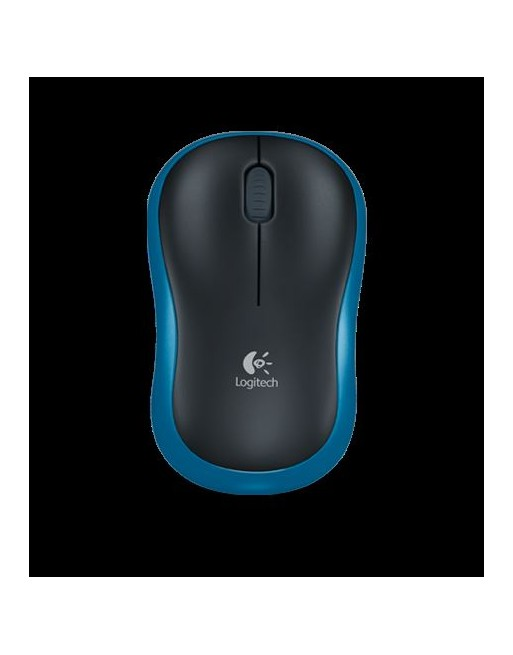logitech-mouse-m185: (138, 132, 377, 495)
